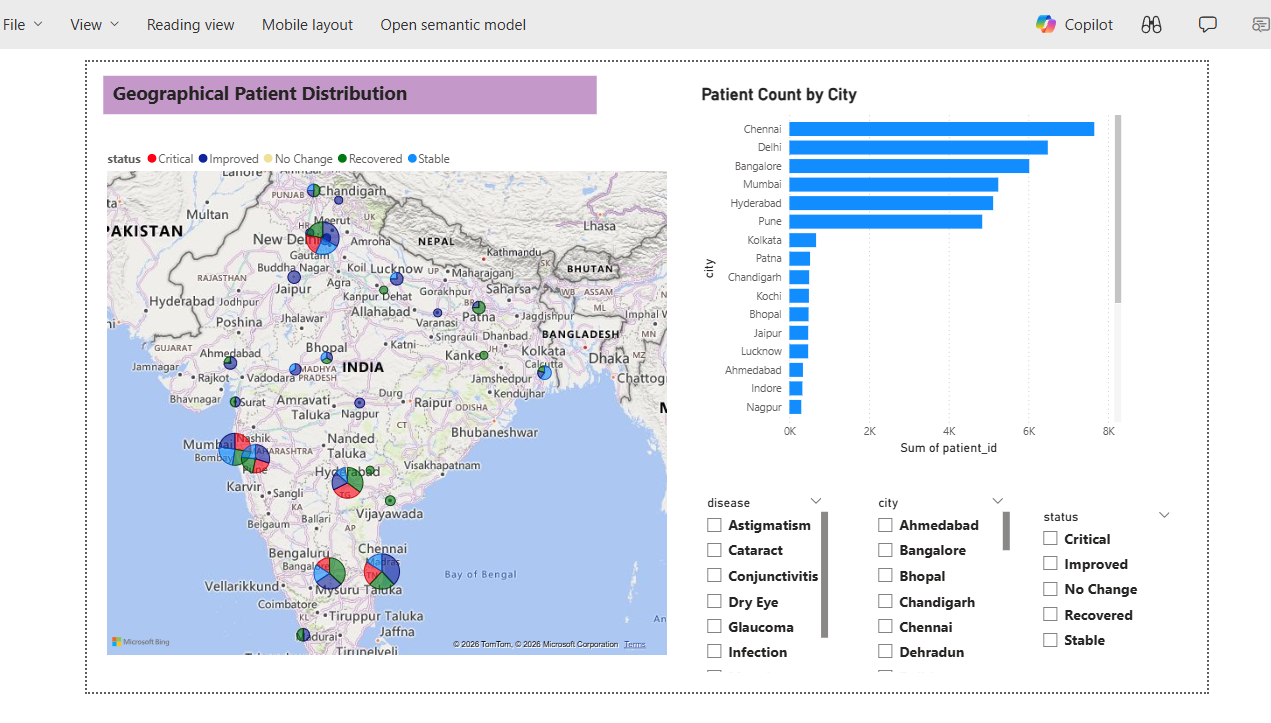

The page's visual inventory and layout, read from the dashboard file:
{"tool":"powerbi","page":{"name":"Page 3","canvas":[1280,720],"ordinal":2},"visuals":[{"type":"textbox","box":[18,16,564,44],"z":0},{"type":"map","fields":{"Category":["patients.city"],"Size":["CountNonNull(patients.patient_id)"],"Series":["patients.status"]},"box":[18,90,650,630],"z":1000},{"type":"clusteredBarChart","title":"Patient Count by City","fields":{"Category":["patients.city"],"Y":["Sum(patients.patient_id)"]},"box":[696.7,25.6,490,428.9],"z":2000},{"type":"slicer","fields":{"Values":["patients.disease"]},"box":[696,490,156,212],"z":3000},{"type":"slicer","fields":{"Values":["patients.status"]},"box":[1080,506,170,180],"z":4000},{"type":"slicer","fields":{"Values":["patients.city"]},"box":[892,490,168,212],"z":5000}]}

Visuals, with their boxes on the page's 1280x720 design canvas (x1, y1, x2, y2). These are canvas units, not pixel positions in the 1271x723 screenshot, which may show the page scaled, cropped or inside an application window:
textbox: select_region(18, 16, 582, 60)
map - patients.city x CountNonNull(patients.patient_id): select_region(18, 90, 668, 720)
"Patient Count by City" clusteredBarChart: select_region(697, 26, 1187, 454)
slicer - patients.disease: select_region(696, 490, 852, 702)
slicer - patients.status: select_region(1080, 506, 1250, 686)
slicer - patients.city: select_region(892, 490, 1060, 702)
